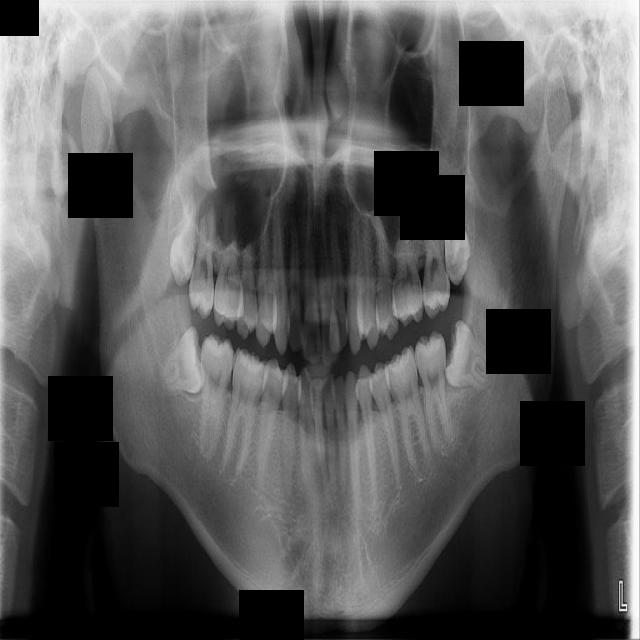3M ESPE Implant: (165, 191, 204, 289)
73: (569, 556, 572, 565)
BioHorizons Implant: (421, 196, 453, 321)
BioLife Implant: (443, 192, 472, 287)
Biomet 3i Implant: (439, 318, 505, 396)
Blue Sky Bio Implant: (413, 330, 453, 453)
Caries: (188, 197, 217, 320)
Implant: (198, 332, 236, 459)
Keystone Dental Implant: (155, 326, 206, 395)
